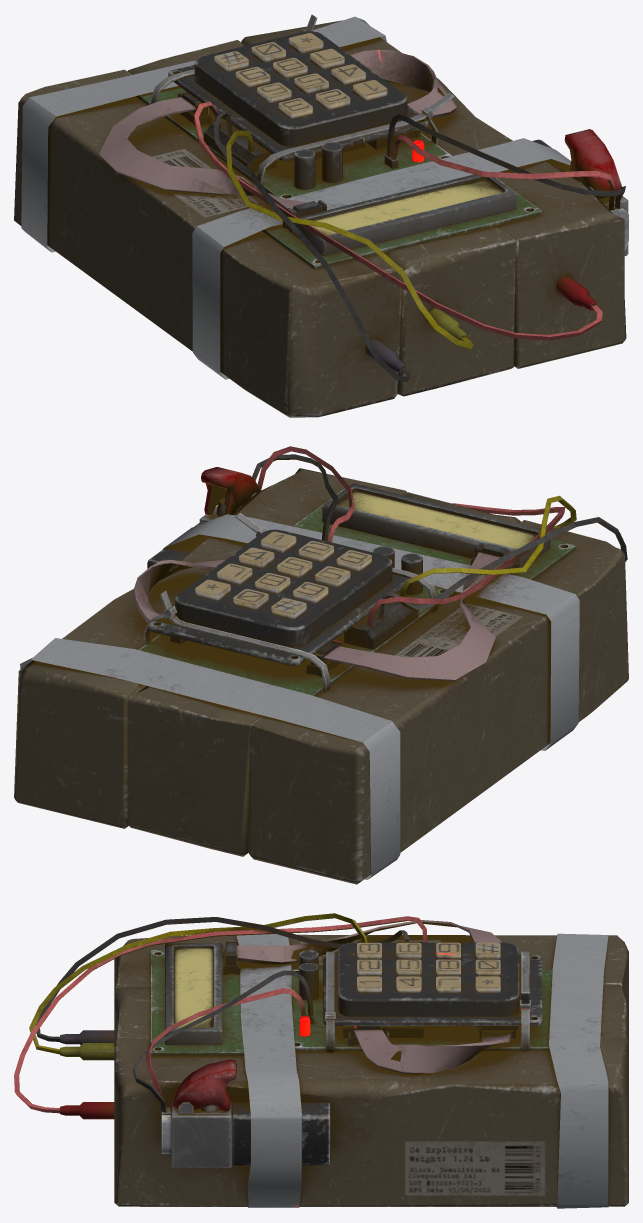
The model's file is c4_explosive.glb.
The picture shows the model from 3 angles, top to bottom: view 1: azimuth 30°, elevation 25°; view 2: azimuth 150°, elevation 25°; view 3: azimuth 270°, elevation 25°; orthographic projection. The views are drawn at different scales.
Visible parts, largest first — view 1: models/weapons/w_eq_c4.001_materials/models/weapons/w_models; view 2: models/weapons/w_eq_c4.001_materials/models/weapons/w_models; view 3: models/weapons/w_eq_c4.001_materials/models/weapons/w_models.
Part boxes in pixels (x1,y1,x2,y2): models/weapons/w_eq_c4.001_materials/models/weapons/w_models: (14,14,628,417); models/weapons/w_eq_c4.001_materials/models/weapons/w_models: (14,446,628,884); models/weapons/w_eq_c4.001_materials/models/weapons/w_models: (14,913,628,1208).
Bounding box in the file's own units: 7.16 × 3.52 × 10.81.
Materials: 1 (1 with a texture image).
